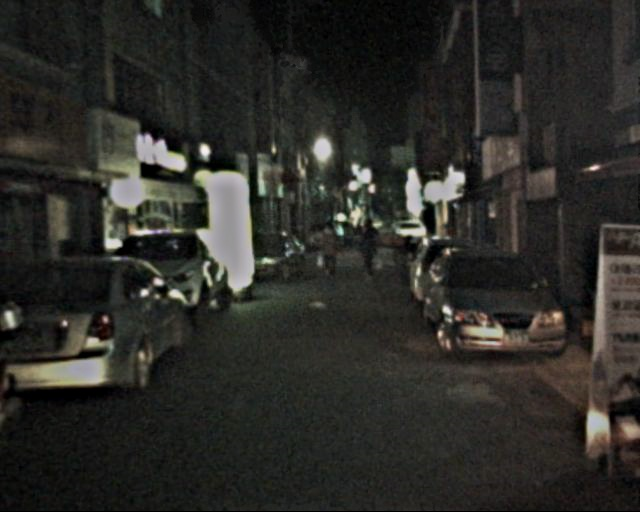person: (316, 220, 343, 285), (356, 217, 383, 282)
